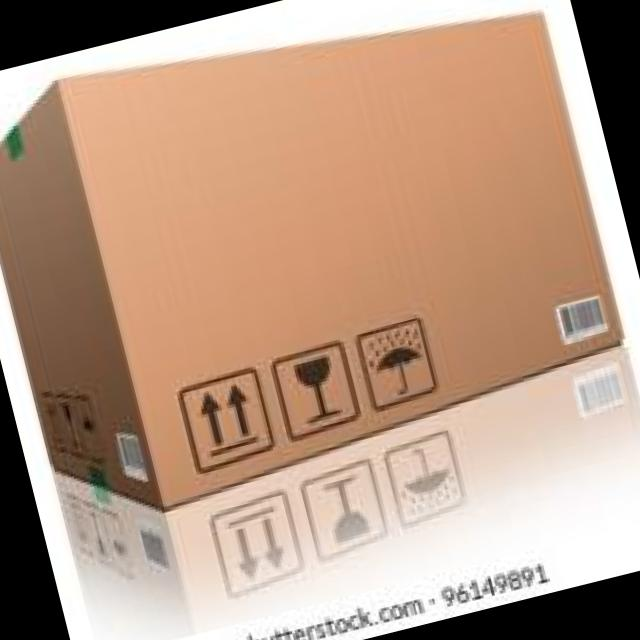box: (0, 9, 626, 501)
